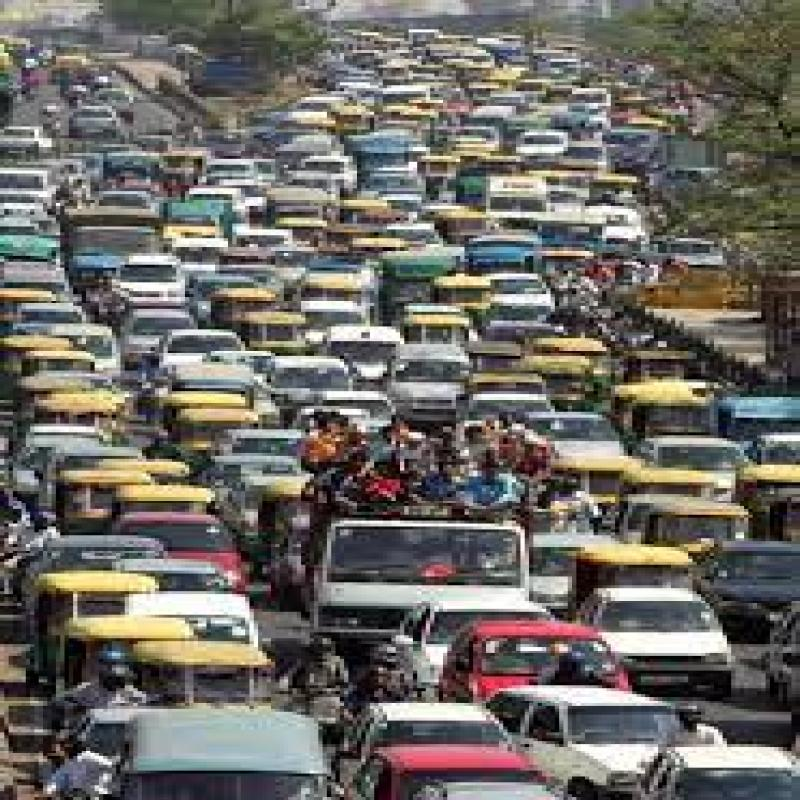auto: (47, 602, 206, 700), (618, 484, 745, 552), (572, 528, 680, 603)
car: (118, 683, 367, 800), (496, 684, 701, 792), (597, 582, 752, 681), (121, 511, 260, 586)
